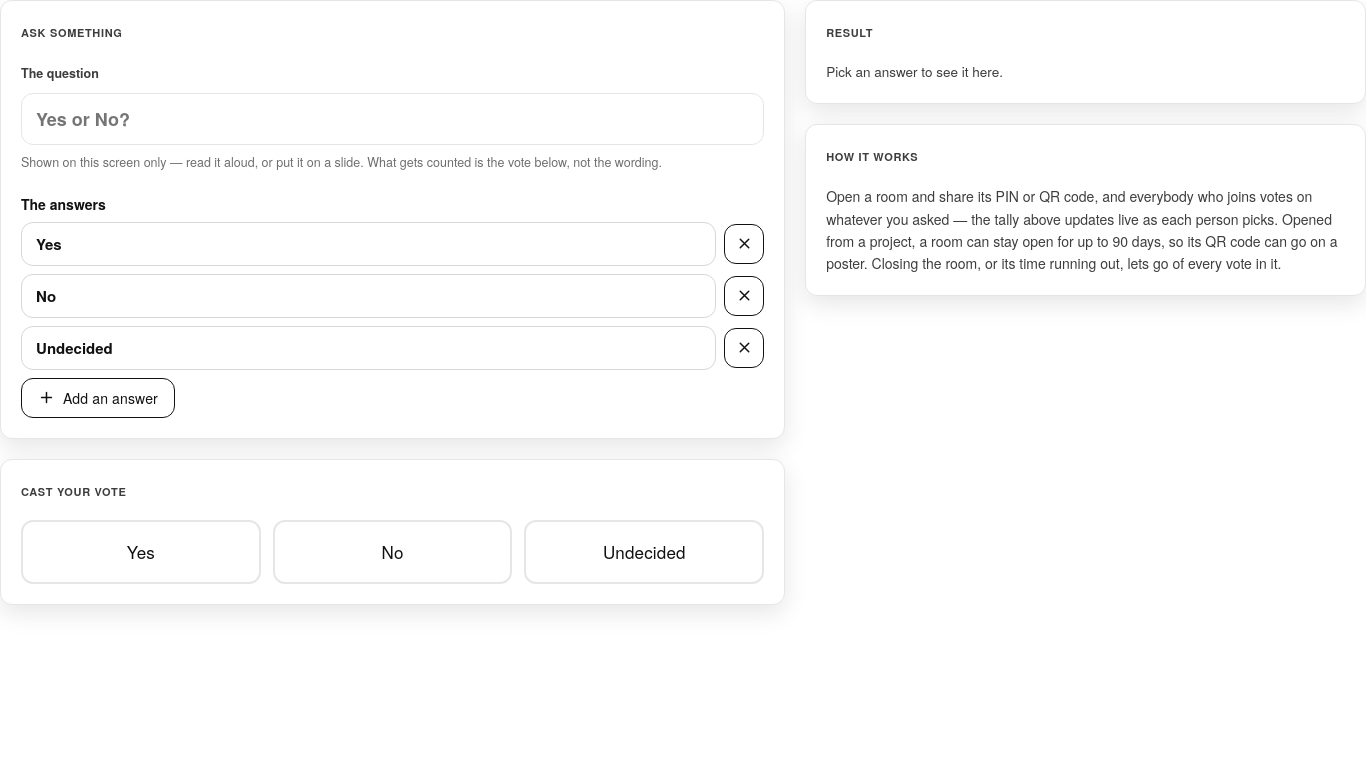
Scenario: Poll › starts from Yes, No and Undecided as answers anybody can rewrite
The width and height of the screenshot is (1366, 768).
In the field named "Answer 2": [369, 296] box [21,274,716,318], type "Not yet"
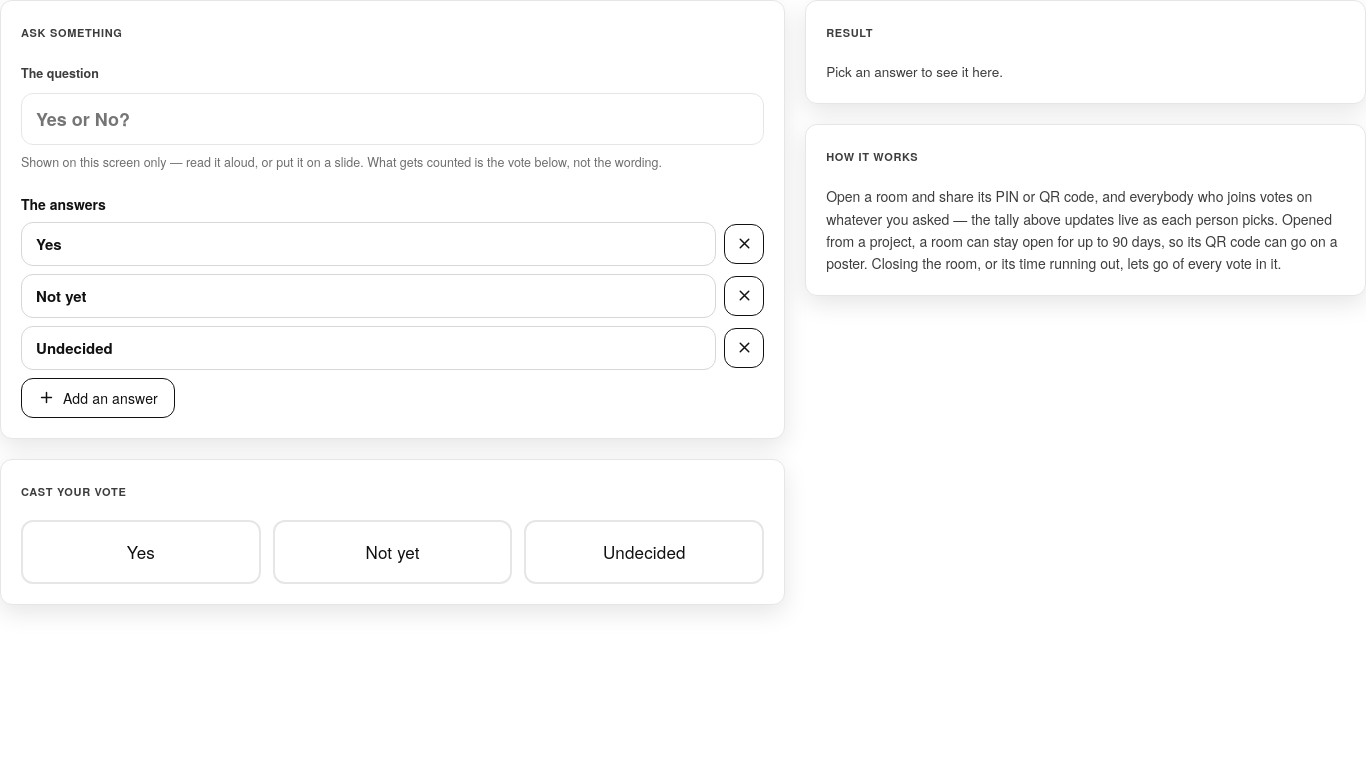
Check: the button "Not yet" is shown, box [273,520,512,584]
